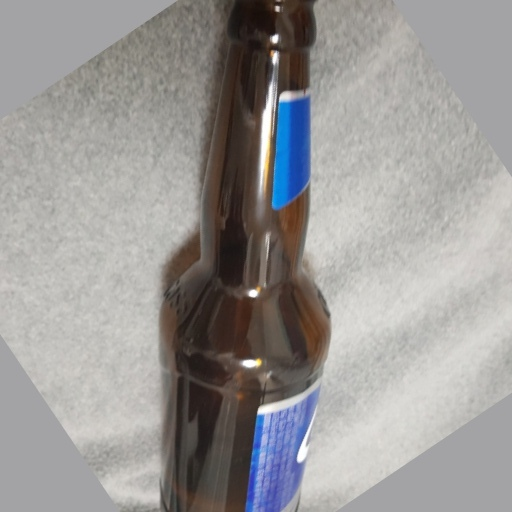Glass_1: (155, 1, 333, 512)
